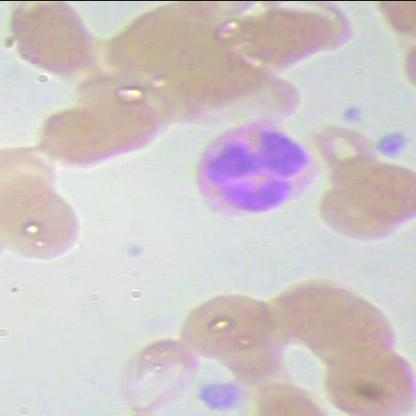Platelets: (192, 378, 244, 416), (370, 129, 410, 160), (335, 98, 370, 128)
RBC: (102, 337, 206, 415), (314, 336, 415, 415), (179, 288, 283, 362), (1, 187, 85, 265), (346, 162, 415, 229)
WBC: (174, 112, 330, 232)
